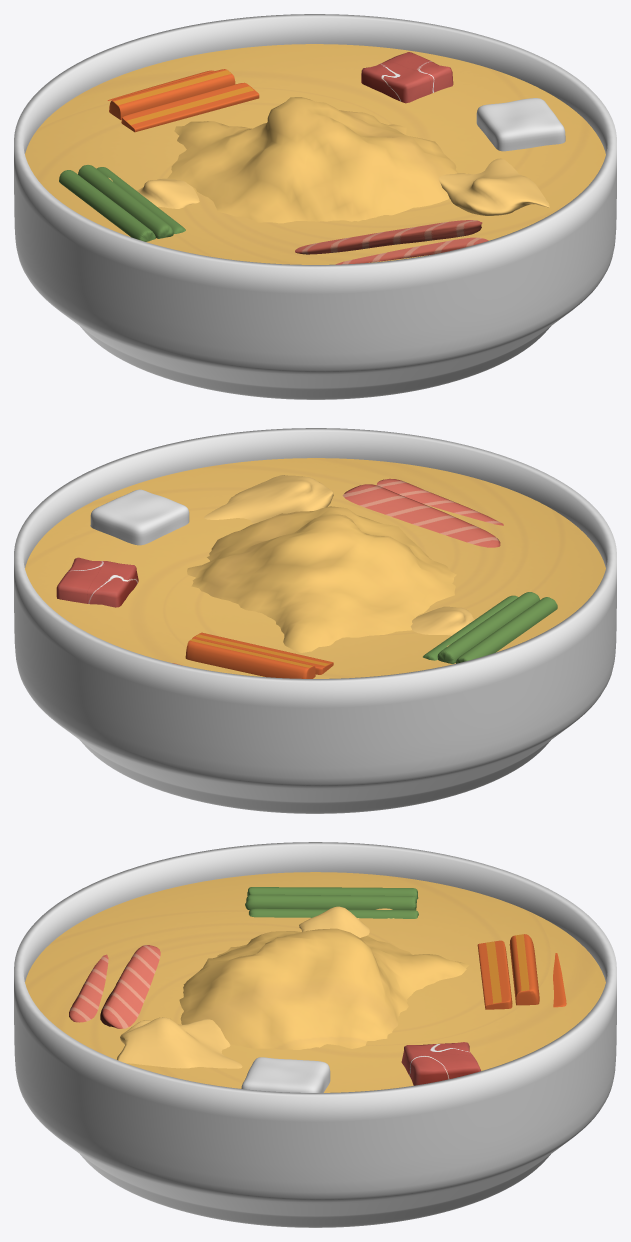
Rendered from mangkok_mixture 1.fbx.
The picture shows the model from 3 angles, top to bottom: view 1: azimuth 30°, elevation 25°; view 2: azimuth 150°, elevation 25°; view 3: azimuth 270°, elevation 25°; orthographic projection.
Visible parts, largest first — view 1: bowl, Circle.001, Cube.005, Cube.002, tahu.011, Cube.006, Cube.007, carrot.007, carrot.008, Cylinder.008, Cylinder.010, Cube.004 (+2 smaller); view 2: bowl, Circle.001, Cube.005, tahu.011, Cube.002, Cube.007, Cube.006, carrot.008, Cylinder.008, Cylinder.010, Cube.008, Cube.004 (+2 smaller); view 3: bowl, Circle.001, Cube.005, Cube.002, Cube.007, tahu.011, Cube.006, Cylinder.010, carrot.007, carrot.008, Cylinder.008, Cube.008 (+2 smaller).
Part boxes in pixels (box(x1,y1,x2,y2)): bowl: box(14, 14, 616, 399); Circle.001: box(25, 44, 605, 264); Cube.005: box(167, 97, 458, 223); Cube.002: box(438, 158, 549, 215); tahu.011: box(476, 98, 565, 151); Cube.006: box(361, 52, 453, 103); Cube.007: box(295, 220, 482, 254); carrot.007: box(121, 82, 259, 132); carrot.008: box(109, 69, 235, 119); Cylinder.008: box(59, 170, 155, 241); Cylinder.010: box(78, 165, 173, 238); Cube.004: box(108, 177, 199, 208); bowl: box(14, 428, 616, 813); Circle.001: box(25, 458, 605, 678); Cube.005: box(187, 506, 456, 652); tahu.011: box(90, 489, 189, 545); Cube.002: box(204, 475, 333, 523); Cube.007: box(342, 484, 500, 547); Cube.006: box(56, 557, 138, 607); carrot.008: box(185, 638, 315, 678); Cylinder.008: box(456, 597, 557, 663); Cylinder.010: box(437, 592, 539, 663); Cube.008: box(377, 478, 503, 525); Cube.004: box(410, 606, 474, 646); bowl: box(14, 842, 616, 1227); Circle.001: box(25, 872, 605, 1092); Cube.005: box(179, 928, 468, 1049); Cube.002: box(117, 1017, 242, 1068); Cube.007: box(100, 945, 160, 1028); tahu.011: box(241, 1057, 330, 1092); Cube.006: box(401, 1042, 480, 1085); Cylinder.010: box(245, 894, 416, 910); carrot.007: box(477, 940, 512, 1009); carrot.008: box(509, 934, 539, 1005); Cylinder.008: box(247, 887, 418, 899); Cube.008: box(69, 954, 108, 1022).
Size of the model in its own units: 81.36 by 27.75 by 81.36.
10 materials, 3 textured.
